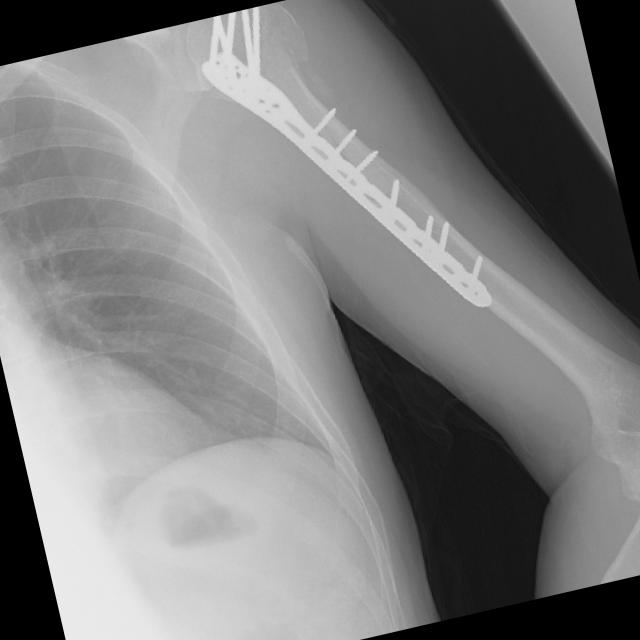humerus fracture: (256, 31, 329, 105)
